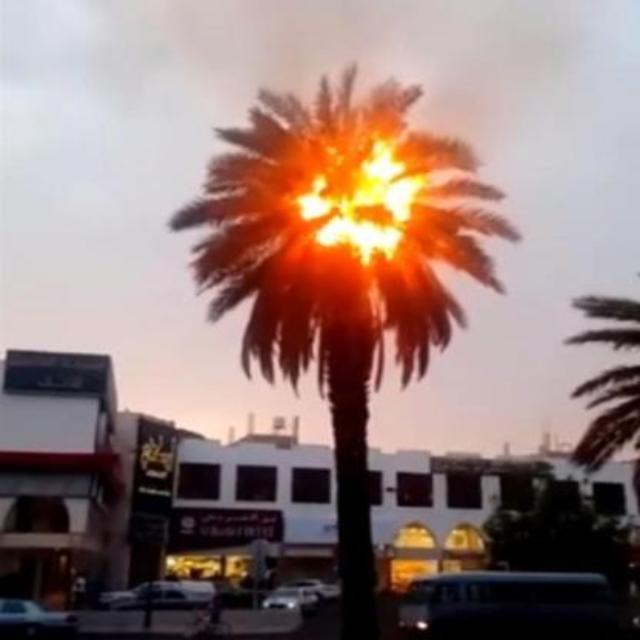Fire: (302, 138, 424, 262)
